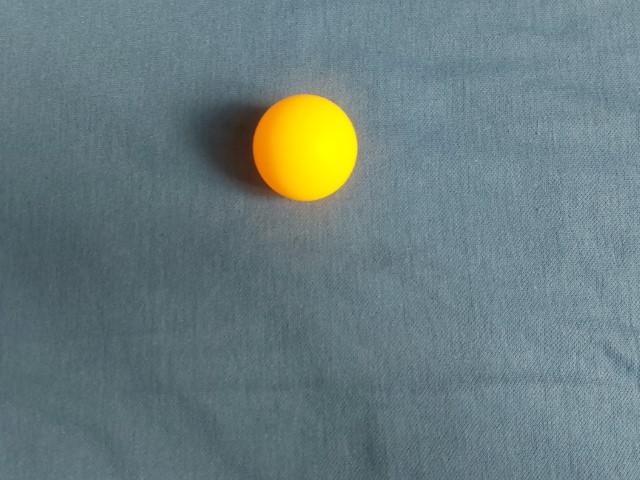oball: (276, 276, 392, 391)
